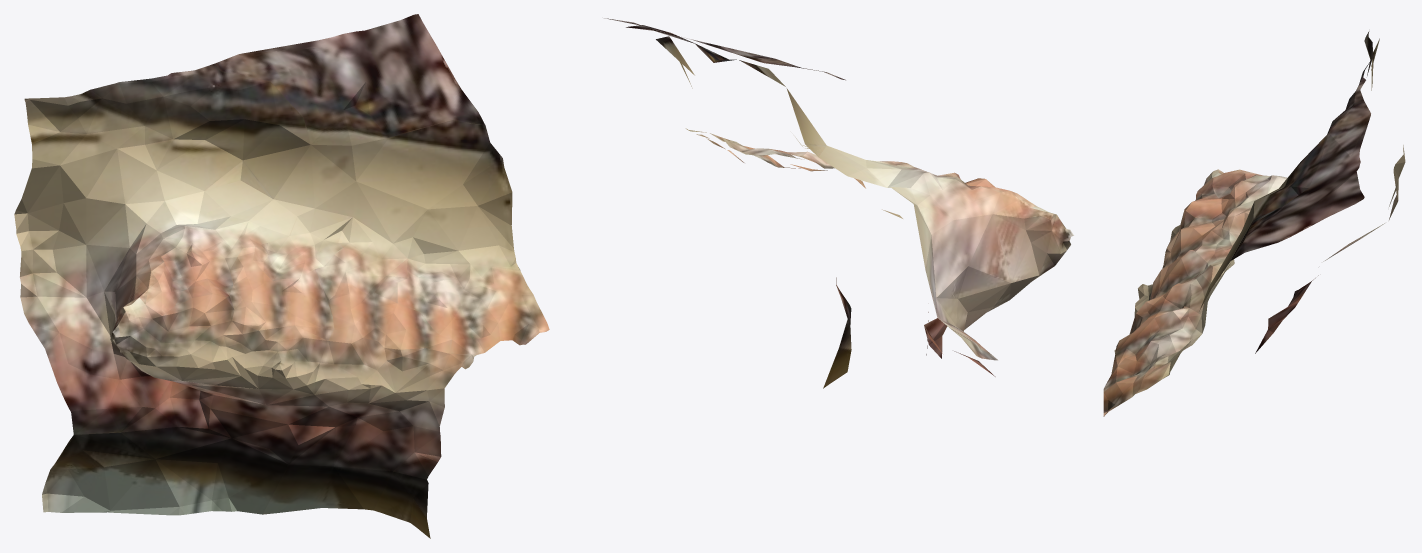
3 renders of one model, left to right at view 1: azimuth 30°, elevation 25°; view 2: azimuth 150°, elevation 25°; view 3: azimuth 270°, elevation 25°, orthographic. The views are drawn at different scales.
Bounding box in the file's own units: 1.67 × 1.67 × 1.16.
Materials: 3 (3 with a texture image).
